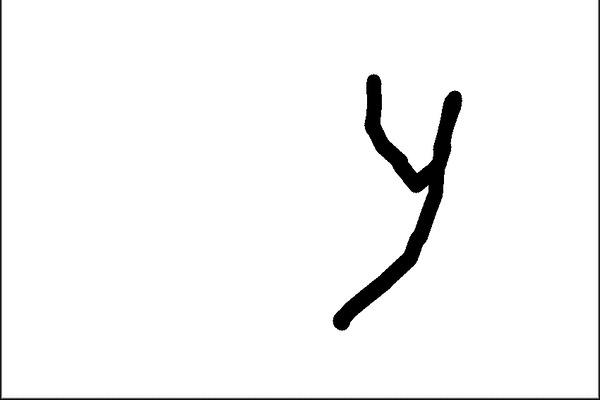Y: (324, 67, 465, 337)
